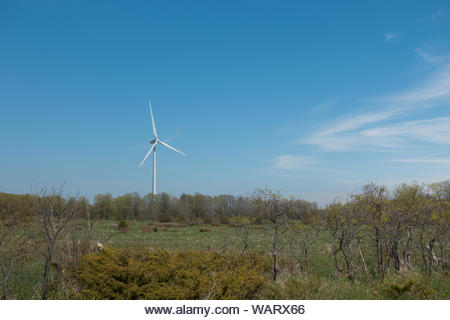working: (127, 97, 191, 185)
